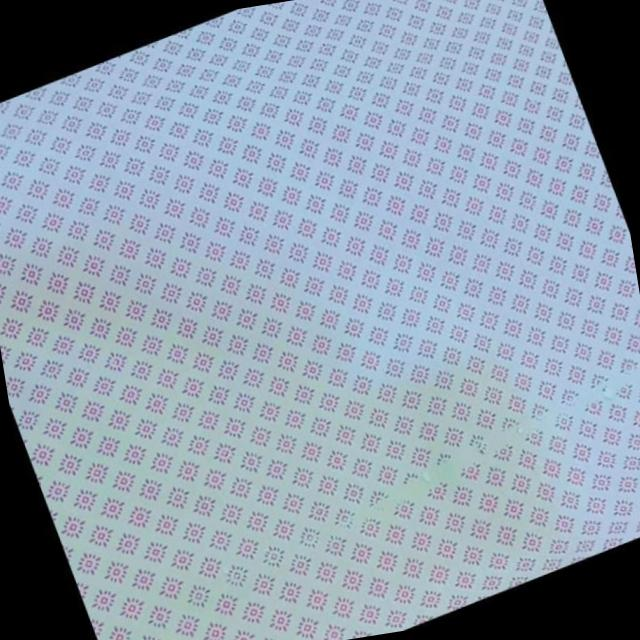selvet: (240, 339, 640, 578)
